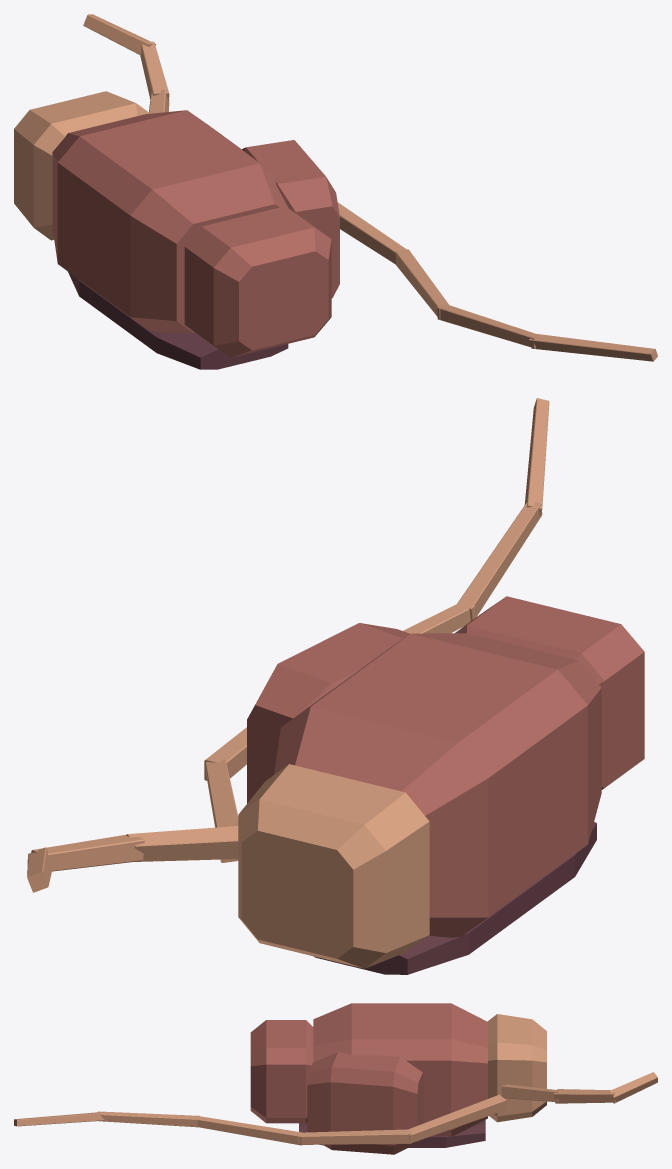
File: BodoSaltans__LOD1.gltf
3 views of the same model, one above another, from view 1: azimuth 30°, elevation 25°; view 2: azimuth 150°, elevation 25°; view 3: azimuth 270°, elevation 25° (orthographic). The views are drawn at different scales.
Visible parts, largest first — view 1: Root, Trailing4, Trailing3, Trailing1, Trailing2, Anterior2, Anterior1; view 2: Root, Anterior0, Trailing3, Anterior1, Trailing4, Trailing0, Trailing2, Trailing1, Anterior2; view 3: Root, Trailing0, Trailing1, Trailing2, Trailing3, Anterior1, Trailing4, Anterior0, Anterior2.
Part boxes in pixels (<box>): Root: <box>14,91,339,369</box>; Trailing4: <box>529,333,657,361</box>; Trailing3: <box>437,304,537,348</box>; Trailing1: <box>337,202,405,264</box>; Trailing2: <box>395,249,448,320</box>; Anterior2: <box>83,14,155,55</box>; Anterior1: <box>140,41,169,100</box>; Root: <box>238,596,644,974</box>; Anterior0: <box>126,826,238,861</box>; Trailing3: <box>456,502,542,620</box>; Anterior1: <box>31,834,144,871</box>; Trailing4: <box>524,398,549,516</box>; Trailing0: <box>205,758,238,862</box>; Trailing2: <box>403,604,474,633</box>; Trailing1: <box>204,727,246,780</box>; Anterior2: <box>27,847,52,892</box>; Root: <box>250,1003,546,1154</box>; Trailing0: <box>405,1094,505,1142</box>; Trailing1: <box>298,1129,411,1144</box>; Trailing2: <box>197,1116,304,1145</box>; Trailing3: <box>98,1111,200,1127</box>; Anterior1: <box>553,1089,615,1103</box>; Trailing4: <box>14,1112,104,1126</box>; Anterior0: <box>501,1084,559,1102</box>; Anterior2: <box>609,1072,657,1103</box>.
Size of the model in its own units: 1.35 by 0.735 by 3.87.
1 material, 1 textured.
